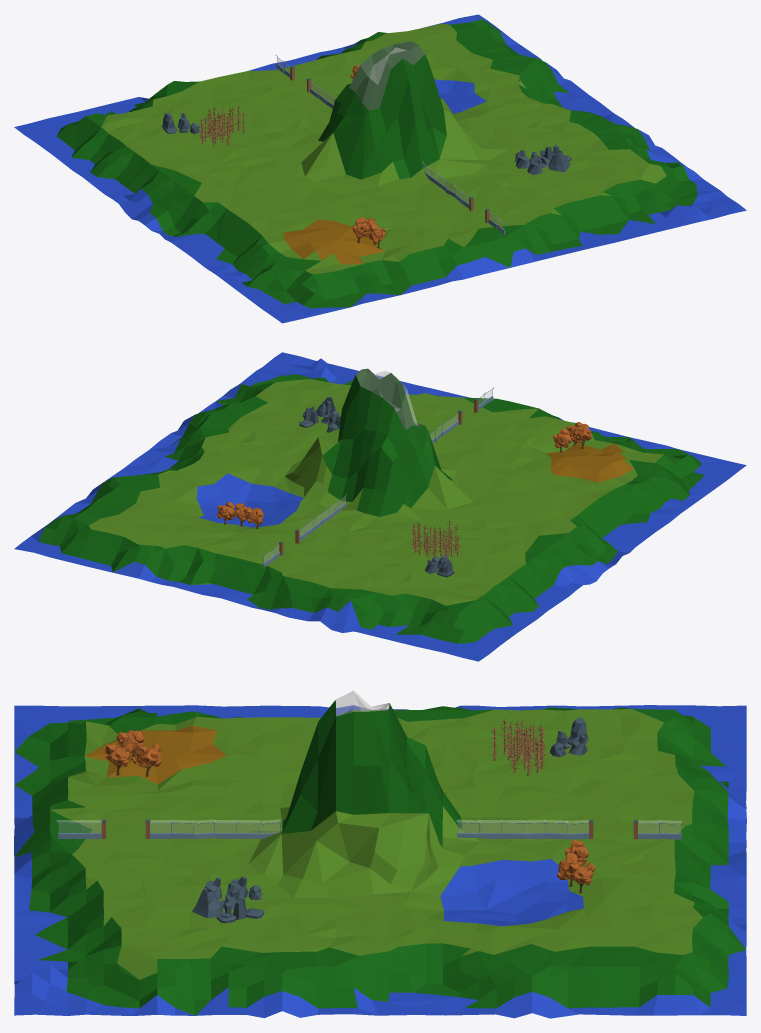
The model's file is map.gltf.
The picture shows the model from 3 angles, top to bottom: view 1: azimuth 30°, elevation 25°; view 2: azimuth 150°, elevation 25°; view 3: azimuth 270°, elevation 25°; orthographic projection. The views are drawn at different scales.
Parts seen in each view (by area): view 1: Plane; view 2: Plane; view 3: Plane, Object_1125, Object_1117, Tree1.004.
Part boxes in pixels (x1,y1,x2,y2): Plane: (14,14,746,323); Plane: (14,352,746,661); Plane: (14,690,746,1018); Object_1125: (216,895,264,923); Object_1117: (192,888,223,918); Tree1.004: (132,743,161,777).
Bounding box in the file's own units: 100 × 27.78 × 100.
